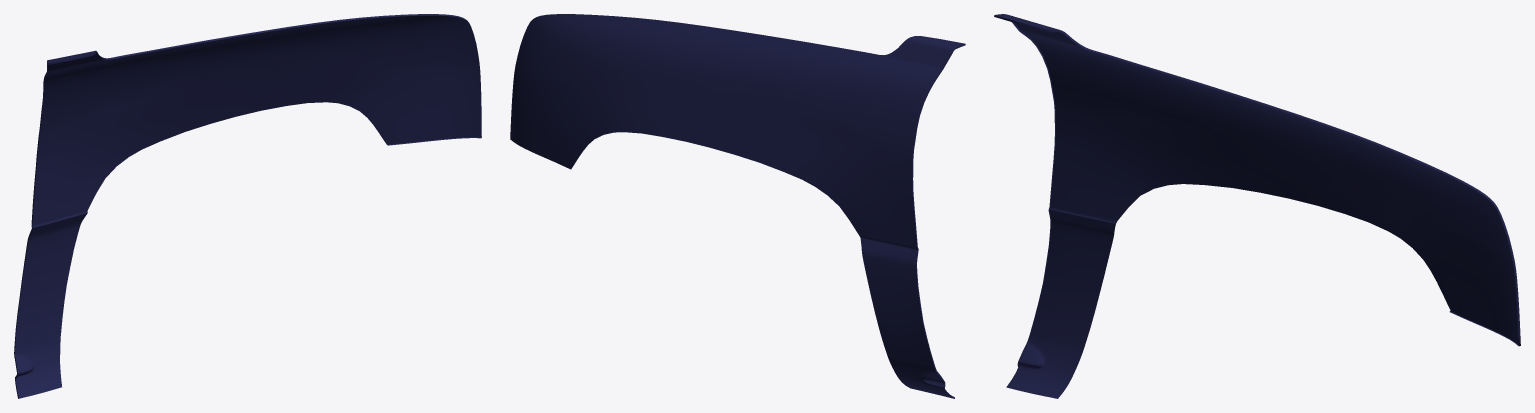
The picture shows the model from 3 angles, left to right: view 1: azimuth 30°, elevation 25°; view 2: azimuth 150°, elevation 25°; view 3: azimuth 330°, elevation 25°; orthographic projection. The views are drawn at different scales.
Visible parts, largest first — view 1: U803_3A_121B_L_1_DaS_U803_3A_121B_L, U803_3A_121B_L_1_DaS_U803_3A_121B_L_E; view 2: U803_3A_121B_L_1_DaS_U803_3A_121B_L, U803_3A_121B_L_1_DaS_U803_3A_121B_L_E; view 3: U803_3A_121B_L_1_DaS_U803_3A_121B_L, U803_3A_121B_L_1_DaS_U803_3A_121B_L_E.
Part boxes in pixels (x1=…): U803_3A_121B_L_1_DaS_U803_3A_121B_L: x1=15, y1=15, x2=481, y2=398; U803_3A_121B_L_1_DaS_U803_3A_121B_L_E: x1=14, y1=14, x2=481, y2=398; U803_3A_121B_L_1_DaS_U803_3A_121B_L: x1=510, y1=14, x2=964, y2=398; U803_3A_121B_L_1_DaS_U803_3A_121B_L_E: x1=912, y1=44, x2=965, y2=398; U803_3A_121B_L_1_DaS_U803_3A_121B_L: x1=995, y1=14, x2=1518, y2=398; U803_3A_121B_L_1_DaS_U803_3A_121B_L_E: x1=994, y1=15, x2=1520, y2=387.
Size of the model in its own units: 112 by 81.17 by 15.85.
